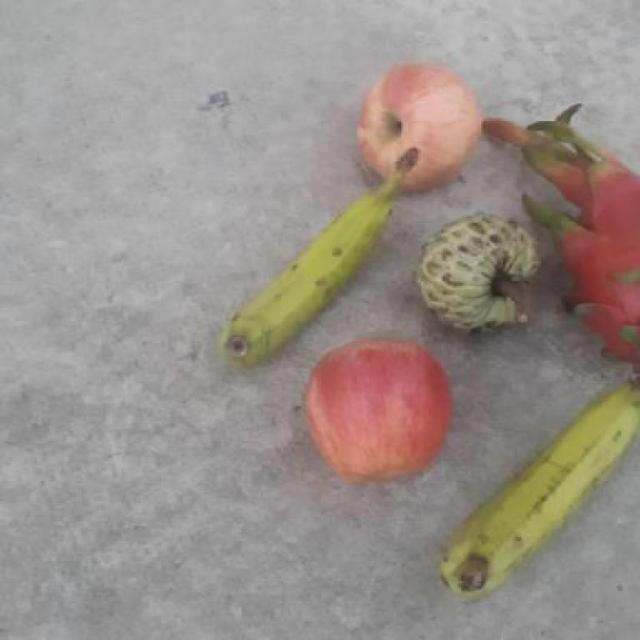apple: (302, 333, 455, 484), (353, 60, 484, 197)
banana: (213, 145, 422, 369), (441, 372, 640, 598)
dragon fruit: (552, 159, 639, 379)
sugar apple: (412, 211, 545, 338)
